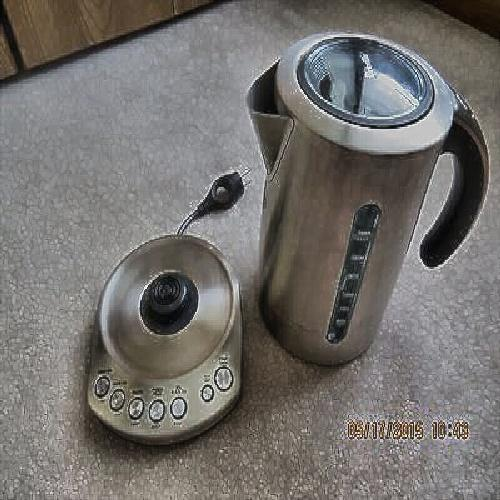kettle: (263, 41, 451, 374), (78, 221, 256, 438)
